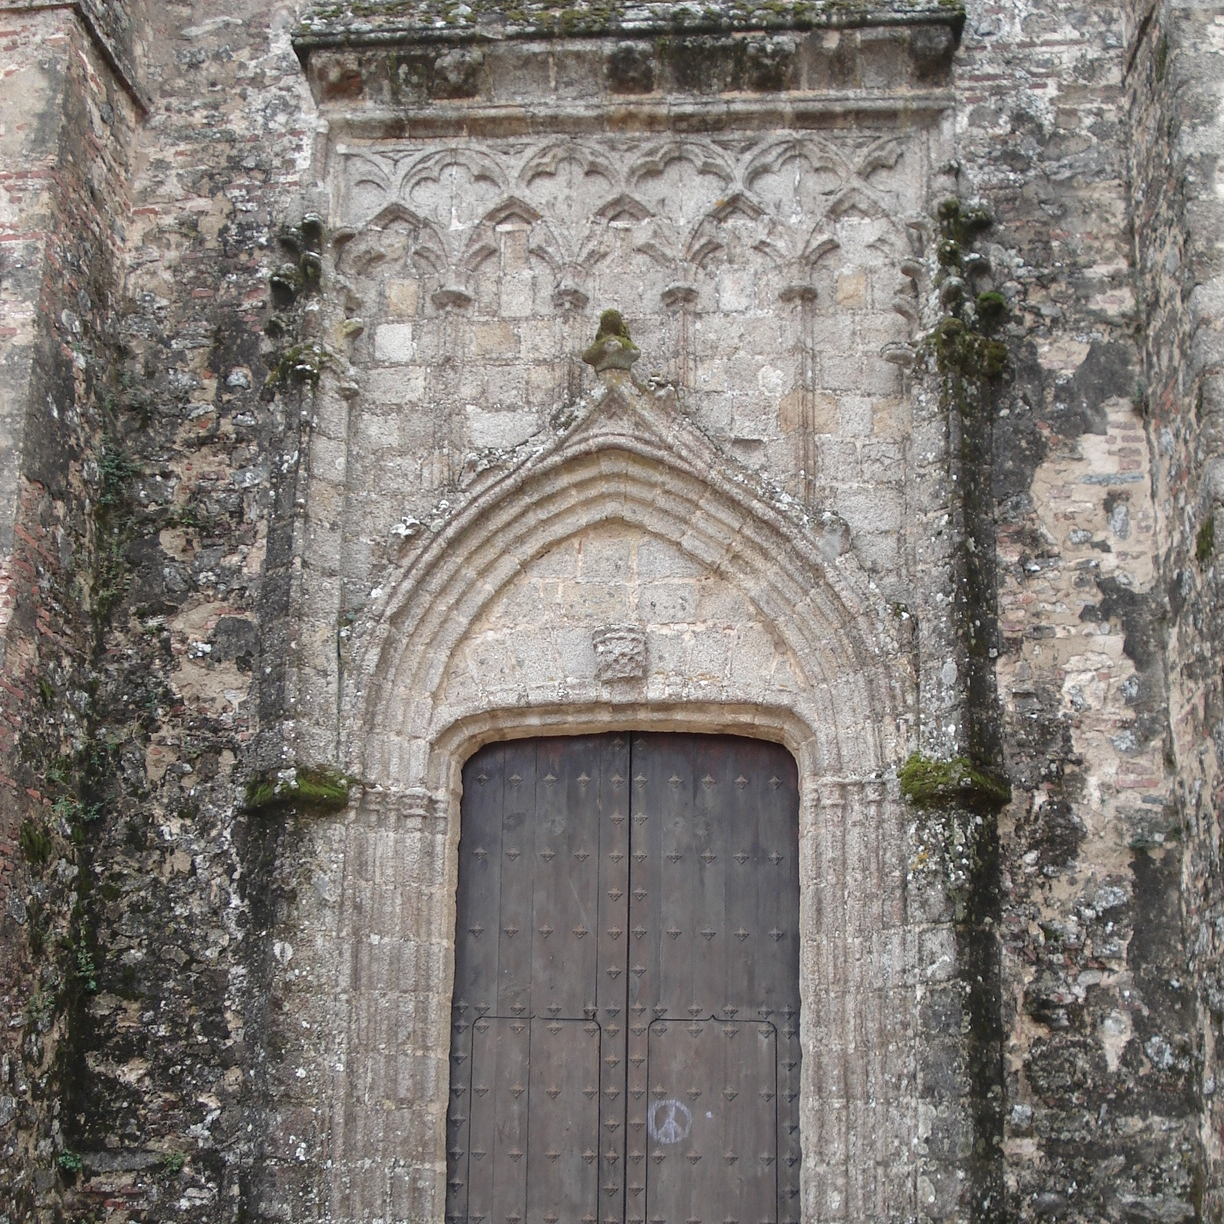arco-apuntado: (364, 432, 877, 710)
